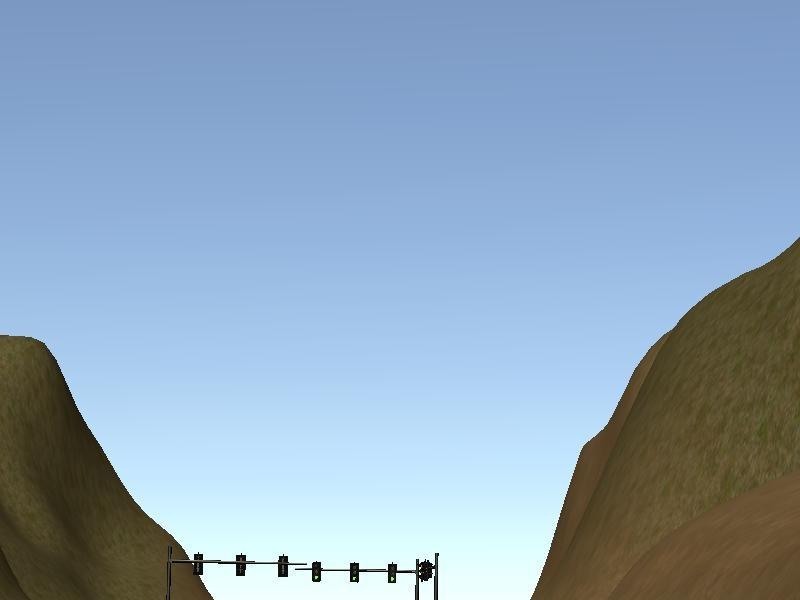traffic_light_green: (303, 560, 417, 585)
